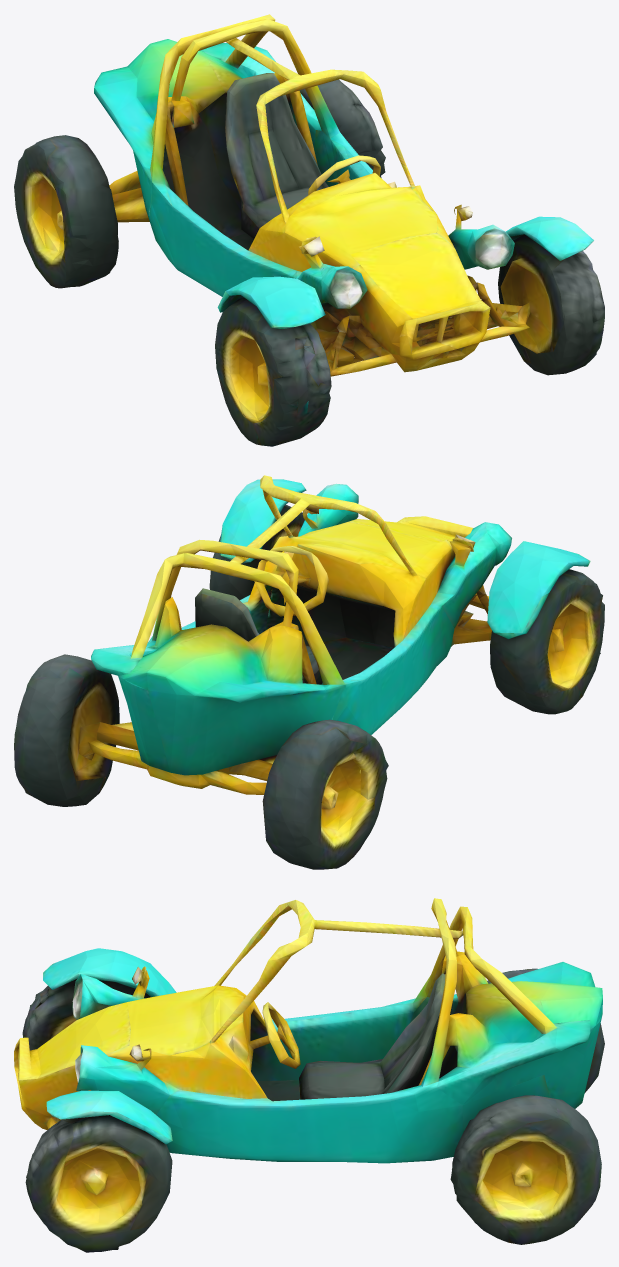
File: dune-buggy.glb
3 renders of one model, top to bottom at view 1: azimuth 30°, elevation 25°; view 2: azimuth 150°, elevation 25°; view 3: azimuth 270°, elevation 25°, orthographic.
Visible parts, largest first — view 1: model; view 2: model; view 3: model.
Boxes of the visible parts, x1,y1,x2,y2 form: model: (14,14,604,446); model: (14,475,604,869); model: (14,898,604,1252).
Size of the model in its own units: 1.89 by 1.41 by 2.9.
Materials: 1 (1 with a texture image).
